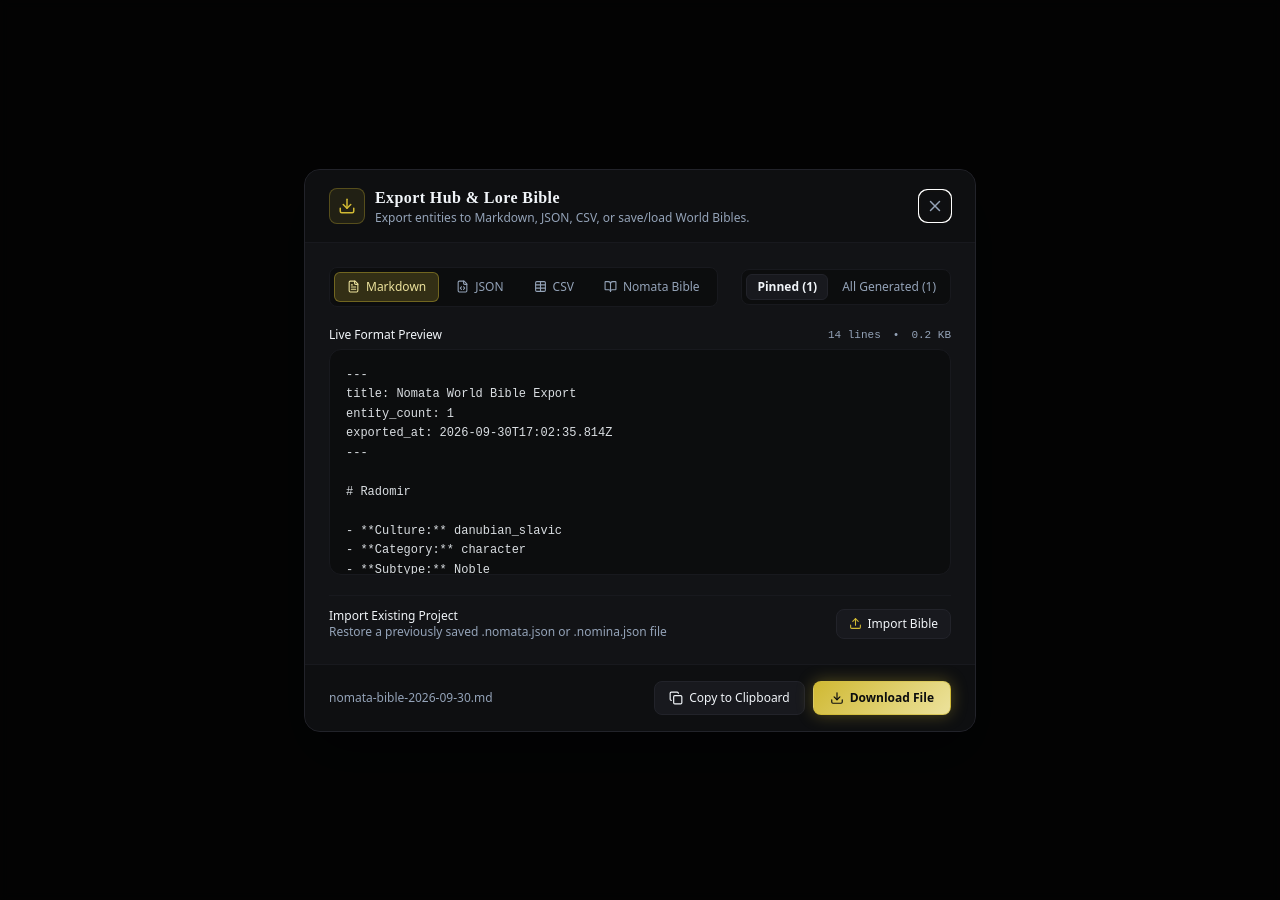
Test: keeps browser downloads within the modal so background prevention does not cancel them
Click the button with test id "export-save-btn" at (882, 698), box [813, 680, 951, 714]
Wait 1000 ms
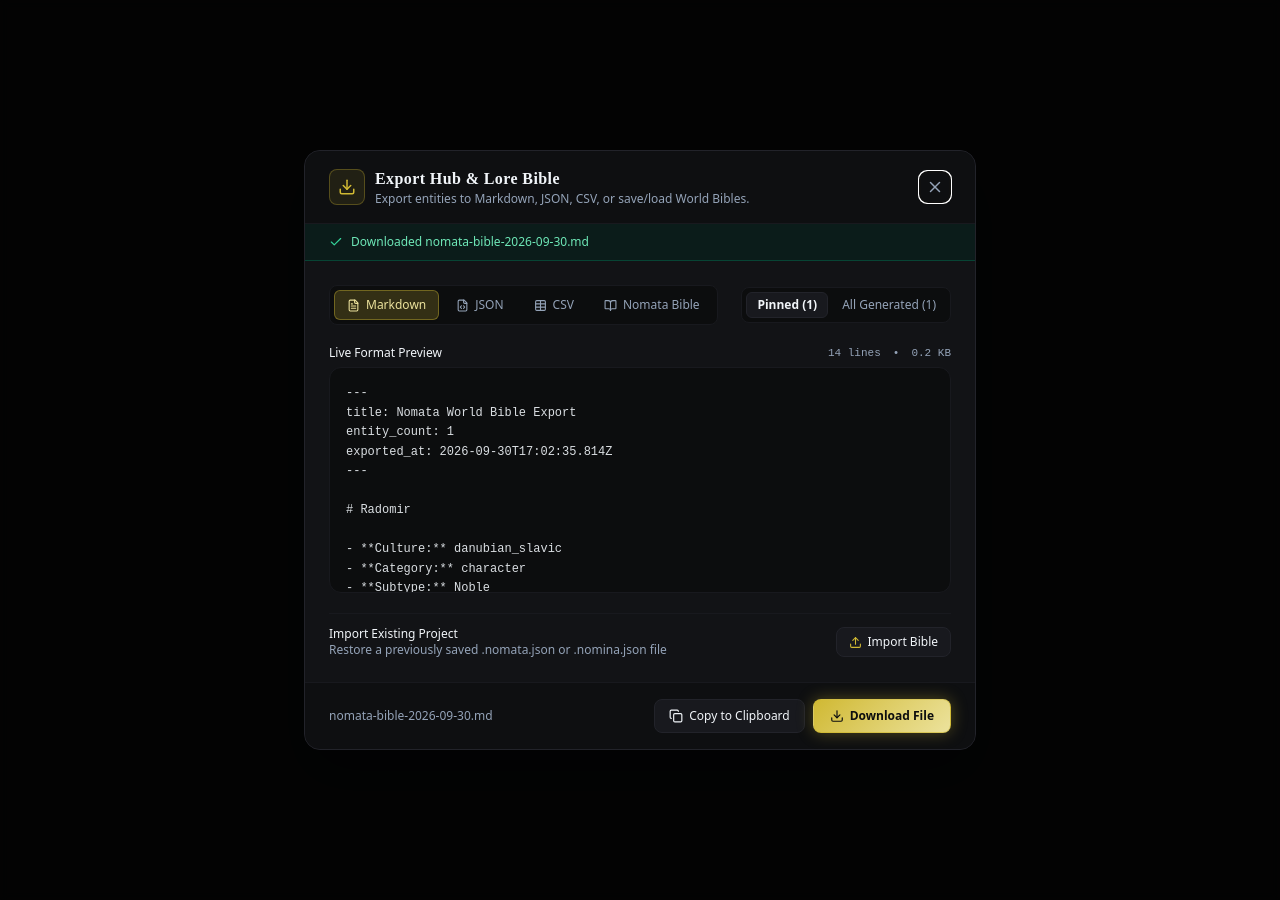
Expected: the element with test id "export-status-banner" shows "Downloaded", [351, 233, 589, 250]
